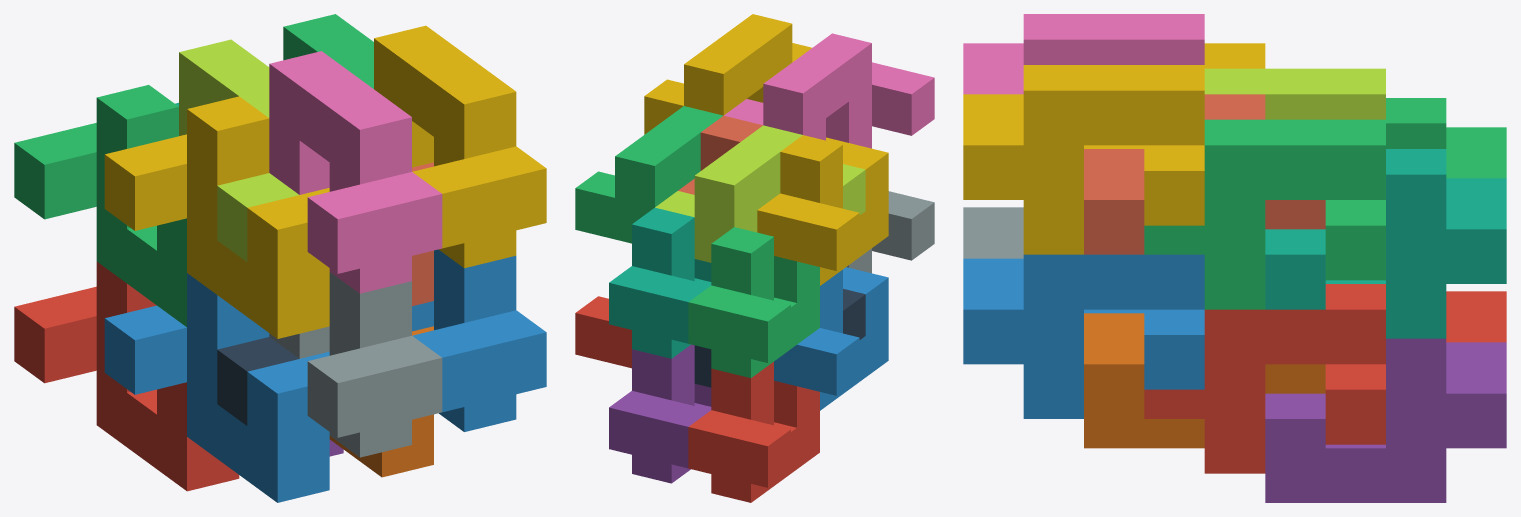
The model's file is tiling.obj.
The picture shows the model from 3 angles, left to right: view 1: azimuth 30°, elevation 25°; view 2: azimuth 150°, elevation 25°; view 3: azimuth 270°, elevation 25°; orthographic projection. The views are drawn at different scales.
Parts seen in each view (by area): view 1: copy_2_domain_4, copy_1_domain_4, copy_2_domain_8, copy_1_domain_2, copy_2_domain_2, copy_1_domain_3, copy_1_domain_1, copy_2_domain_6, copy_2_domain_3, copy_2_domain_7, copy_2_domain_1, copy_1_domain_6 (+1 smaller); view 2: copy_2_domain_4, copy_1_domain_3, copy_1_domain_1, copy_1_domain_4, copy_1_domain_7, copy_2_domain_7, copy_1_domain_5, copy_2_domain_3, copy_2_domain_8, copy_1_domain_2, copy_2_domain_2, copy_2_domain_5 (+2 smaller); view 3: copy_2_domain_8, copy_2_domain_7, copy_2_domain_6, copy_1_domain_5, copy_2_domain_5, copy_1_domain_7, copy_2_domain_4, copy_1_domain_6, copy_1_domain_8, copy_2_domain_3, copy_1_domain_3, copy_1_domain_1 (+2 smaller).
Part boxes in pixels (x1=…): copy_2_domain_4: x1=269, y1=51, x2=442, y2=293; copy_1_domain_4: x1=104, y1=96, x2=329, y2=338; copy_2_domain_8: x1=374, y1=25, x2=546, y2=268; copy_1_domain_2: x1=104, y1=273, x2=329, y2=502; copy_2_domain_2: x1=269, y1=272, x2=442, y2=457; copy_1_domain_3: x1=14, y1=85, x2=186, y2=326; copy_1_domain_1: x1=14, y1=261, x2=239, y2=491; copy_2_domain_6: x1=412, y1=249, x2=546, y2=431; copy_2_domain_3: x1=179, y1=39, x2=298, y2=261; copy_2_domain_7: x1=283, y1=14, x2=373, y2=88; copy_2_domain_1: x1=217, y1=337, x2=298, y2=425; copy_1_domain_6: x1=329, y1=326, x2=433, y2=477; copy_2_domain_4: x1=724, y1=33, x2=934, y2=148; copy_1_domain_3: x1=688, y1=227, x2=819, y2=377; copy_1_domain_1: x1=688, y1=362, x2=819, y2=502; copy_1_domain_4: x1=757, y1=135, x2=888, y2=285; copy_1_domain_7: x1=609, y1=207, x2=711, y2=358; copy_2_domain_7: x1=575, y1=106, x2=722, y2=243; copy_1_domain_5: x1=609, y1=344, x2=711, y2=483; copy_2_domain_3: x1=655, y1=125, x2=865, y2=262; copy_2_domain_8: x1=644, y1=14, x2=811, y2=134; copy_1_domain_2: x1=774, y1=267, x2=888, y2=410; copy_2_domain_2: x1=846, y1=191, x2=934, y2=273; copy_2_domain_5: x1=575, y1=296, x2=631, y2=368; copy_2_domain_8: x1=963, y1=65, x2=1204, y2=254; copy_2_domain_7: x1=1144, y1=119, x2=1385, y2=309; copy_2_domain_6: x1=963, y1=254, x2=1204, y2=418; copy_1_domain_5: x1=1265, y1=338, x2=1506, y2=502; copy_2_domain_5: x1=1144, y1=284, x2=1385, y2=473; copy_1_domain_7: x1=1265, y1=149, x2=1506, y2=338; copy_2_domain_4: x1=963, y1=14, x2=1204, y2=94; copy_1_domain_6: x1=1084, y1=313, x2=1325, y2=448; copy_1_domain_8: x1=1084, y1=94, x2=1325, y2=254; copy_2_domain_3: x1=1204, y1=68, x2=1385, y2=119; copy_1_domain_3: x1=1386, y1=98, x2=1506, y2=178; copy_1_domain_1: x1=1446, y1=291, x2=1506, y2=342.
Bounding box in the file's own units: 6 × 8 × 9.
